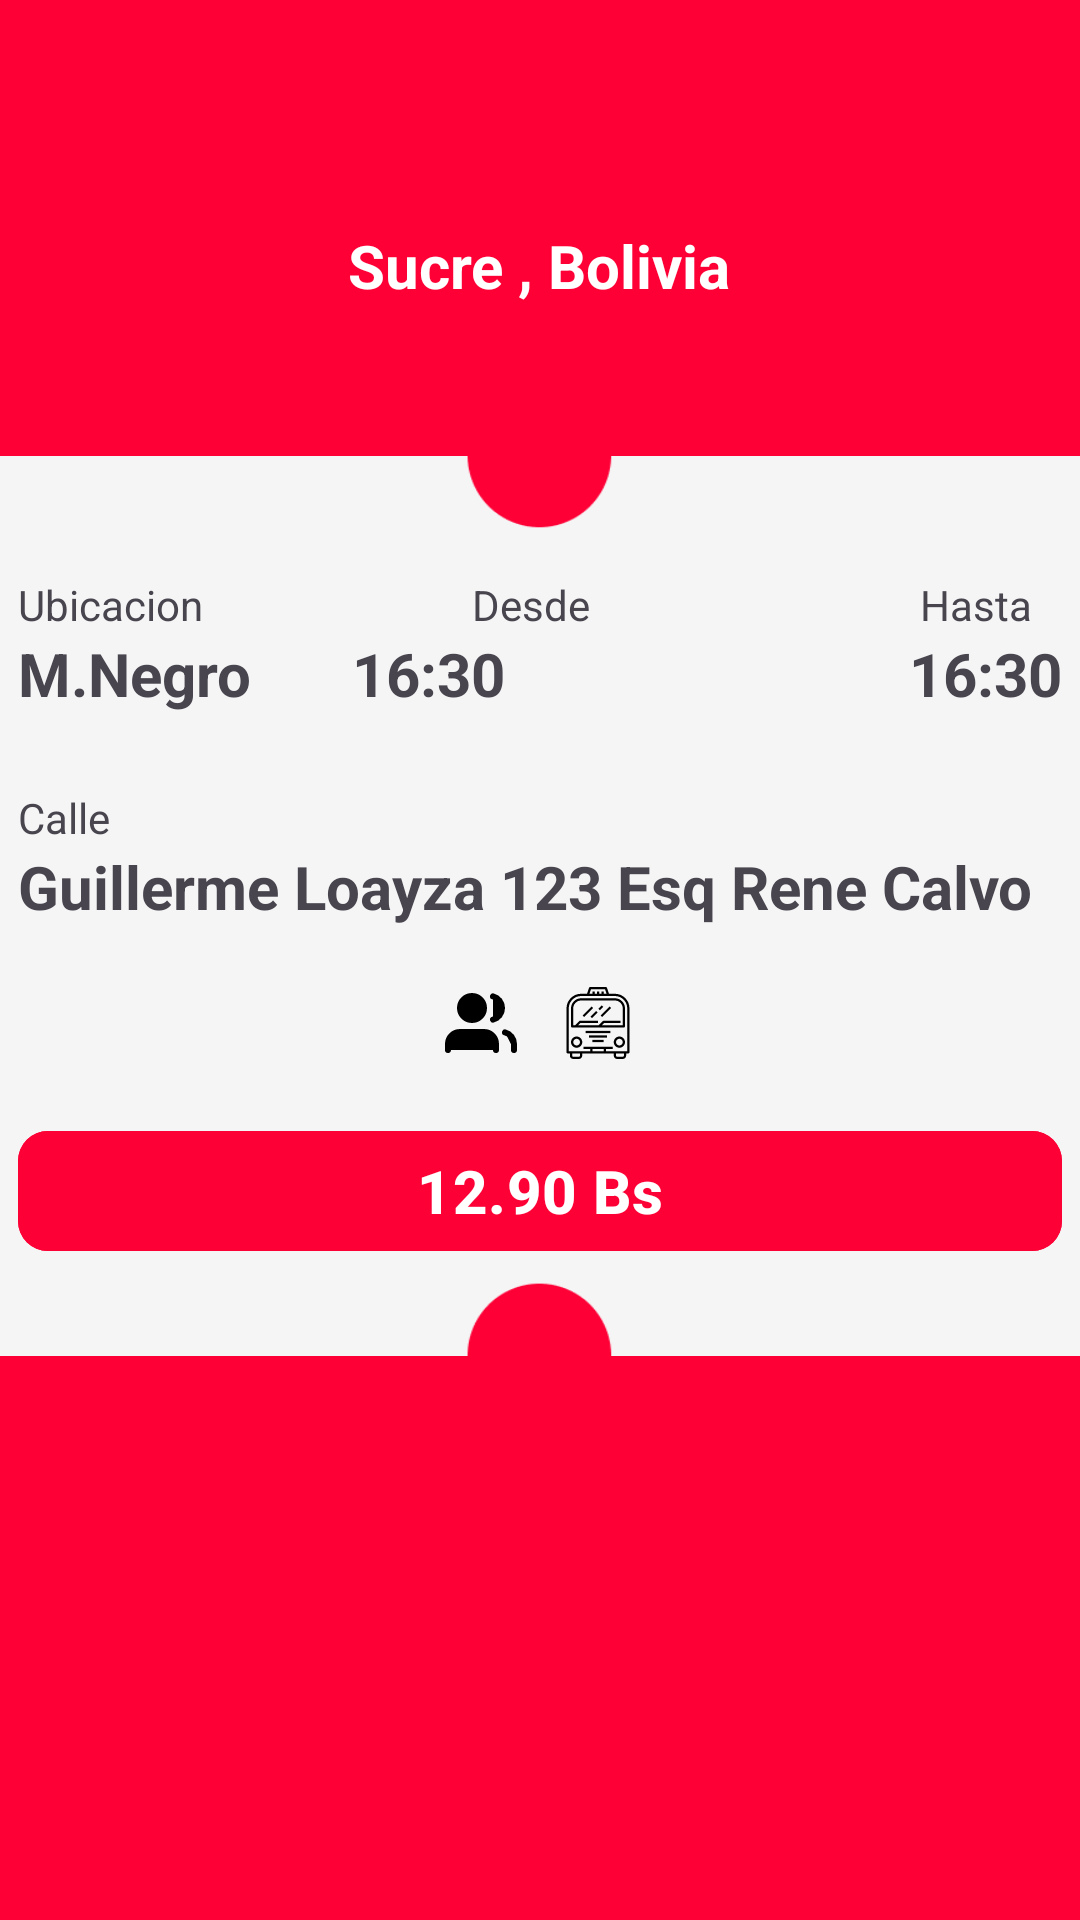

Screen size 1080px x 1920px. Icon name, then its box in pixels as {"left": x1, "top": y1, "right": x2, "bottom": y2}:
bus: {"left": 566, "top": 987, "right": 630, "bottom": 1059}
user: {"left": 445, "top": 993, "right": 517, "bottom": 1053}
